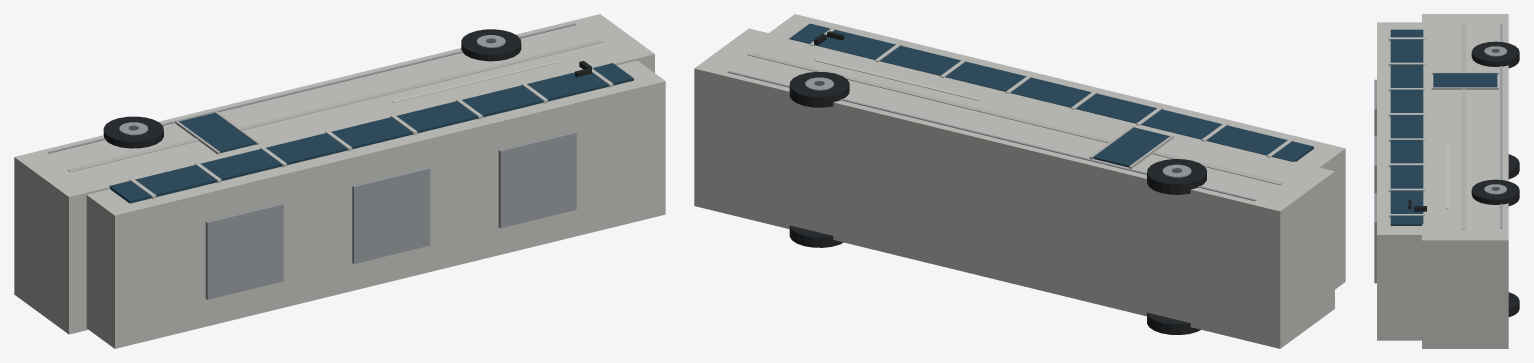
Rendered from RM_Bus_33.glb.
3 views of the same model, side by side, from view 1: azimuth 30°, elevation 25°; view 2: azimuth 150°, elevation 25°; view 3: azimuth 270°, elevation 25° (orthographic). The views are drawn at different scales.
Parts seen in each view (by area): view 1: part_001, part_000, part_002, part_037, part_039, part_038, part_013, part_040, part_024, part_030, part_014; view 2: part_000, part_002, part_001, part_013, part_040, part_030, part_024, part_014, part_027, part_021; view 3: part_000, part_001, part_002, part_013, part_040, part_024, part_030, part_014, part_039, part_021, part_027, part_042 (+6 smaller).
Part boxes in pixels (<box>): part_001: <box>86,60,665,348</box>; part_000: <box>14,14,654,334</box>; part_002: <box>109,63,633,203</box>; part_037: <box>205,203,283,299</box>; part_039: <box>498,131,576,228</box>; part_038: <box>352,167,430,263</box>; part_013: <box>67,39,603,172</box>; part_040: <box>179,113,255,152</box>; part_024: <box>103,116,163,148</box>; part_030: <box>461,29,521,61</box>; part_014: <box>47,23,576,153</box>; part_000: <box>694,28,1334,348</box>; part_002: <box>789,23,1313,161</box>; part_001: <box>769,14,1345,289</box>; part_013: <box>747,52,1283,185</box>; part_040: <box>1093,127,1169,167</box>; part_030: <box>789,71,849,107</box>; part_024: <box>1147,159,1206,194</box>; part_014: <box>727,71,1256,201</box>; part_027: <box>789,225,843,247</box>; part_021: <box>1147,312,1200,334</box>; part_000: <box>1422,14,1508,348</box>; part_001: <box>1377,22,1421,340</box>; part_002: <box>1390,29,1423,225</box>; part_013: <box>1461,23,1466,229</box>; part_040: <box>1433,73,1497,87</box>; part_024: <box>1471,41,1519,68</box>; part_030: <box>1471,179,1519,206</box>; part_014: <box>1500,24,1502,228</box>; part_039: <box>1374,193,1376,283</box>; part_021: <box>1508,154,1519,179</box>; part_027: <box>1508,292,1519,317</box>; part_042: <box>1431,87,1498,89</box>.
Bounding box in the file's own units: 11.64 × 2.93 × 3.16.
